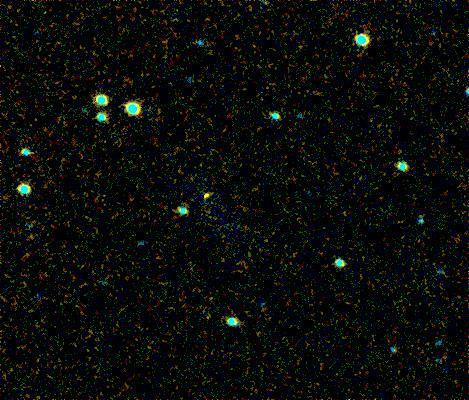star: (195, 181, 225, 211)
